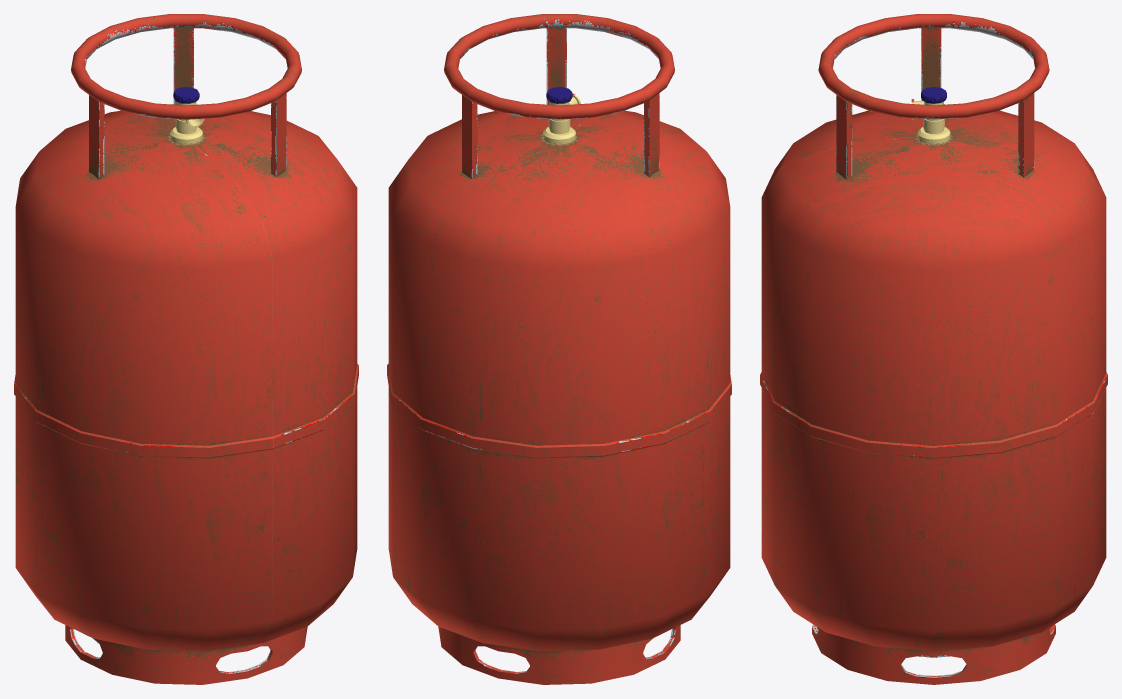
The model's file is Gas_Cylinder.fbx.
The picture shows the model from 3 angles, left to right: view 1: azimuth 30°, elevation 25°; view 2: azimuth 150°, elevation 25°; view 3: azimuth 270°, elevation 25°; orthographic projection.
Parts seen in each view (by area): view 1: Gas_Cylinder; view 2: Gas_Cylinder; view 3: Gas_Cylinder.
Part boxes in pixels (box(x1,y1,x2,y2)): Gas_Cylinder: box(14, 14, 358, 684); Gas_Cylinder: box(387, 14, 731, 684); Gas_Cylinder: box(760, 14, 1107, 684).
Bounding box in the file's own units: 38.8 × 70.58 × 38.8.
Materials: 1 (1 with a texture image).
